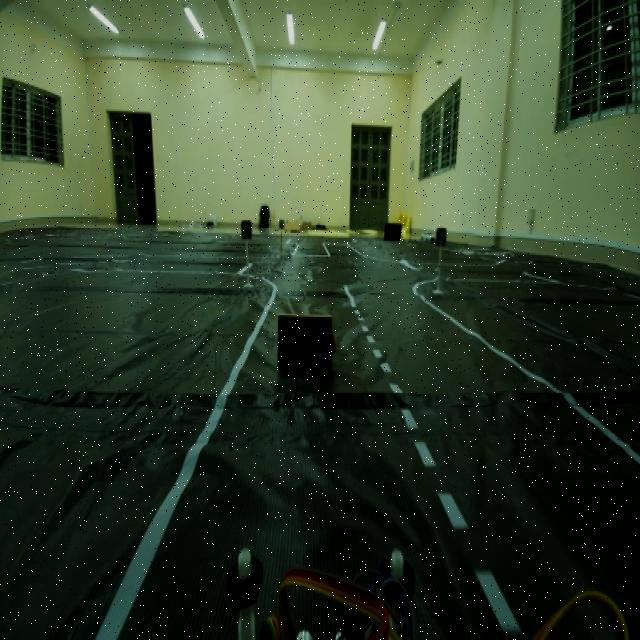roadblock: (271, 303, 343, 385)
